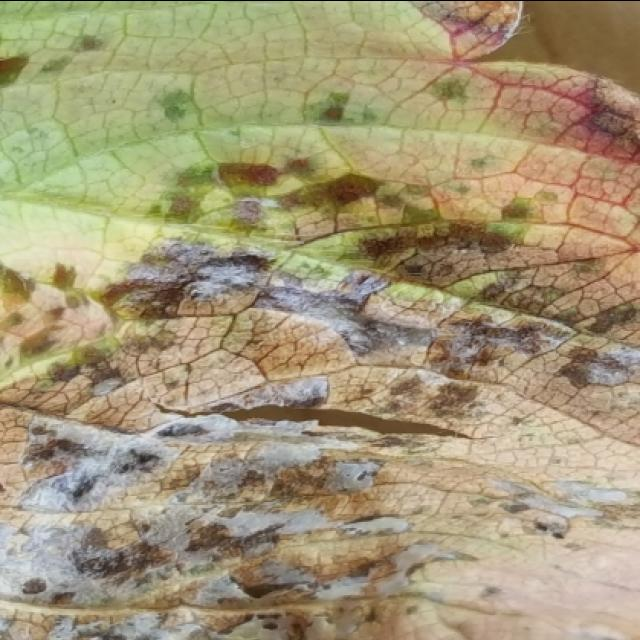Angular Leafspot: (0, 2, 638, 640)
